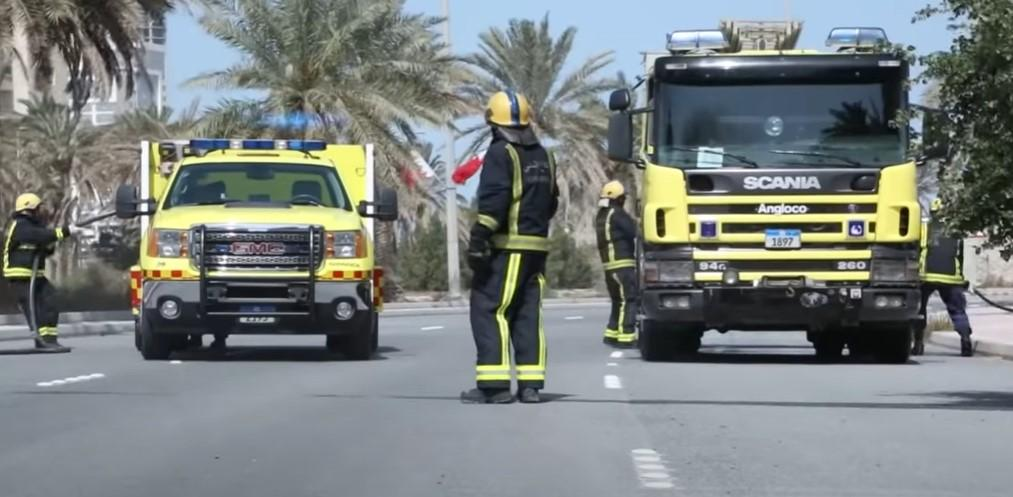firetruck_off: (609, 19, 955, 363), (113, 141, 397, 359)
